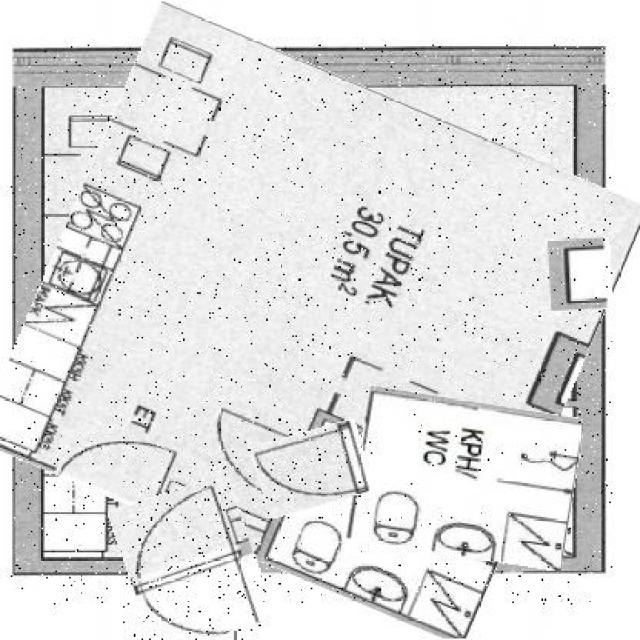door: (119, 480, 263, 640), (255, 425, 371, 512)
window: (548, 238, 612, 310)
zone: (11, 45, 612, 604), (352, 394, 578, 563)
